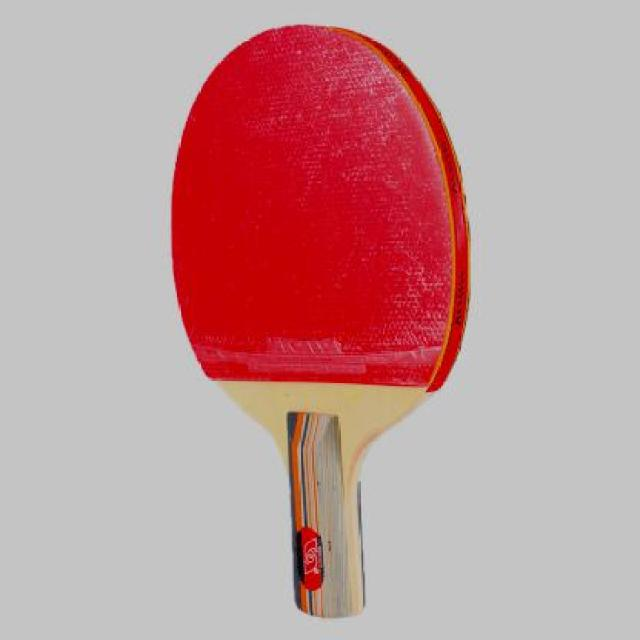table_tennis_racket: (169, 26, 471, 622)
